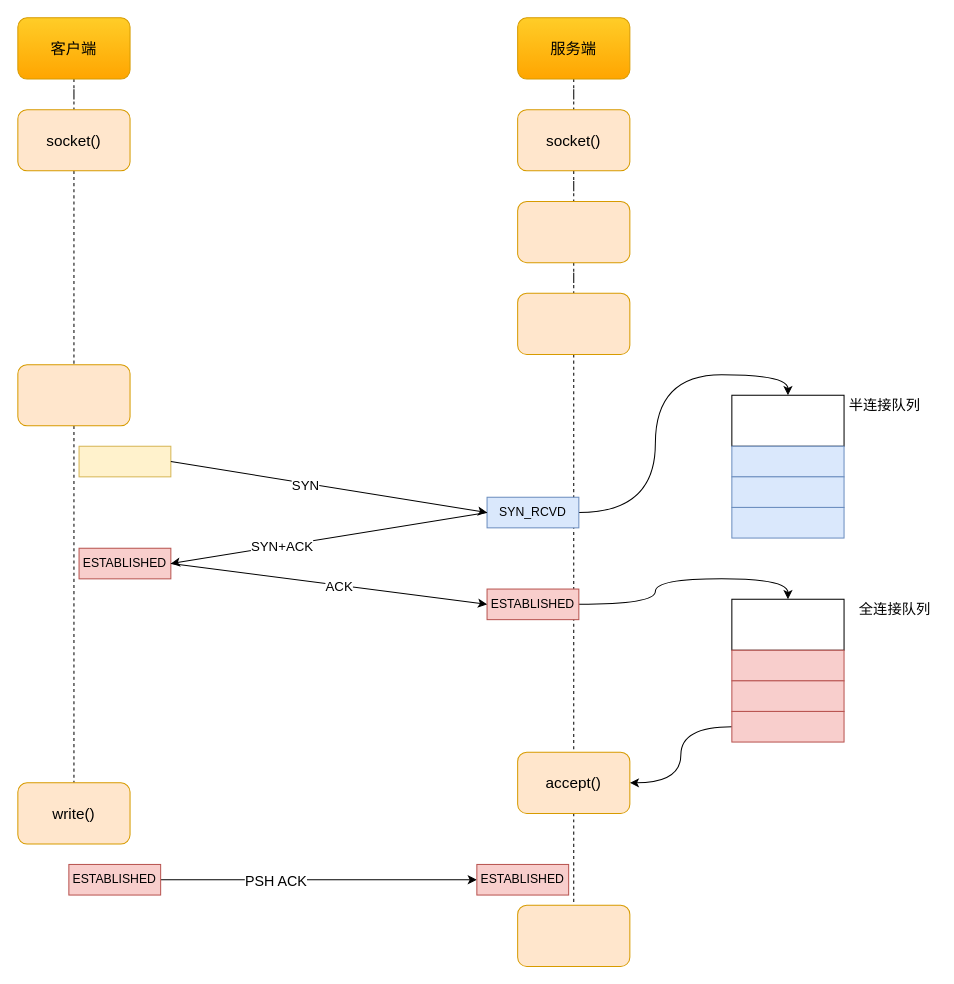
Some shapes in this 954 by 984 pixel diagram are drawn without their labels. The shapes that lost their labels are listed below. From the top down, each one's box as (x1, y1, x2, y2) in pixels, then its label:
(517, 200, 630, 263): bind()
(517, 292, 630, 354): listen()
(17, 364, 130, 426): connect()
(78, 445, 171, 477): SYN_SENT
(517, 904, 630, 966): read()
